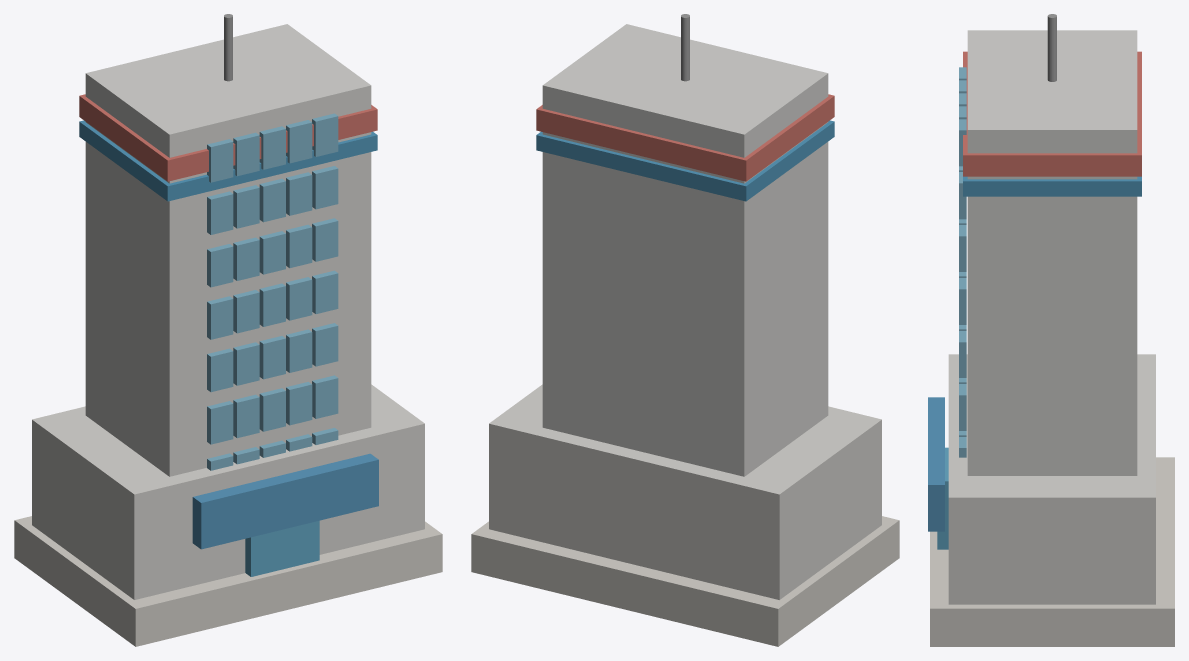
Rendered from headquarters.glb.
3 renders of one model, left to right at view 1: azimuth 30°, elevation 25°; view 2: azimuth 150°, elevation 25°; view 3: azimuth 270°, elevation 25°, orthographic.
Visible parts, largest first — view 1: tower, lower_wing, base, hq_sign, blue_band, roof_band, entrance, window_4_0, window_5_1, window_1_4, window_2_0, window_2_1 (+25 smaller); view 2: tower, lower_wing, base, roof_band, blue_band; view 3: tower, lower_wing, base, roof_band, blue_band, hq_sign, antenna, entrance, window_1_4, window_2_4, window_3_4, window_4_4.
Boxes of the visible parts, left/top/right/bottom form: tower: left=85, top=24, right=371, bottom=476; lower_wing: left=32, top=384, right=424, bottom=599; base: left=14, top=516, right=442, bottom=646; hq_sign: left=192, top=453, right=378, bottom=549; blue_band: left=79, top=120, right=377, bottom=201; roof_band: left=79, top=94, right=377, bottom=181; entrance: left=245, top=520, right=319, bottom=576; window_4_0: left=207, top=244, right=233, bottom=287; window_5_1: left=233, top=185, right=259, bottom=228; window_1_4: left=312, top=375, right=338, bottom=418; window_2_0: left=207, top=348, right=233, bottom=392; window_2_1: left=233, top=342, right=259, bottom=385; tower: left=542, top=24, right=828, bottom=476; lower_wing: left=489, top=384, right=881, bottom=599; base: left=471, top=516, right=899, bottom=646; roof_band: left=536, top=94, right=834, bottom=181; blue_band: left=536, top=120, right=834, bottom=201; tower: left=967, top=30, right=1137, bottom=475; lower_wing: left=948, top=354, right=1155, bottom=604; base: left=930, top=457, right=1174, bottom=646; roof_band: left=963, top=51, right=1141, bottom=176; blue_band: left=963, top=176, right=1141, bottom=196; hq_sign: left=928, top=397, right=944, bottom=531; antenna: left=1047, top=14, right=1056, bottom=81; entrance: left=937, top=447, right=948, bottom=549; window_1_4: left=959, top=384, right=966, bottom=430; window_2_4: left=959, top=331, right=966, bottom=377; window_3_4: left=959, top=278, right=966, bottom=324; window_4_4: left=959, top=225, right=966, bottom=271.
Bounding box in the file's own units: 3.8 × 6.5 × 2.62.
